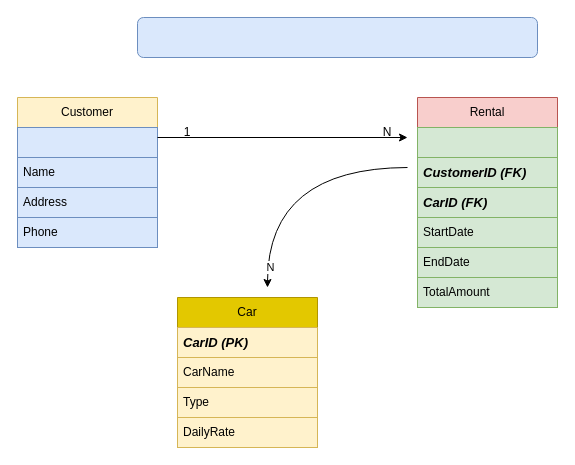
Image size: 575x465. Some labels were removed from this diagram. Here are the shapes that lost their labels. From the top down, the centre of each, then its label:
the point at 337,37: Car Rental Management System
the point at 87,142: CustomerID (PK)
the point at 487,142: RentalID (PK)
